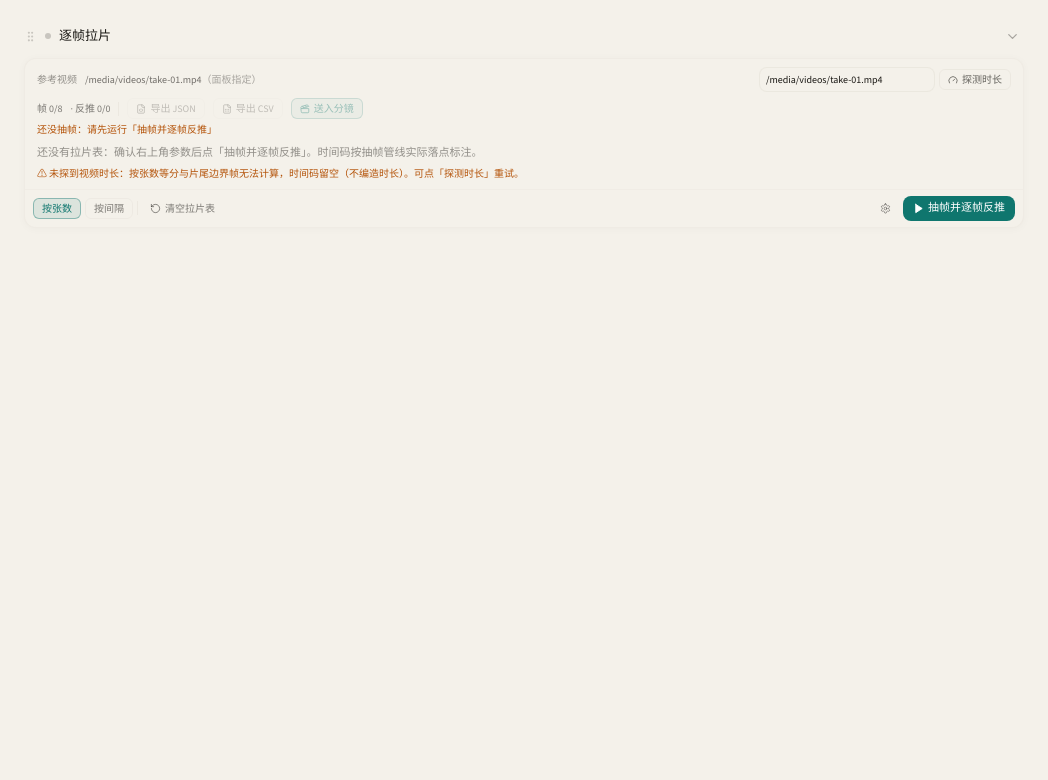
Test case: FrameStudyWorkspace：时长探测 › 探测成功：写入时长与备注，概览显示真实秒数并提示成功
Click the button "探测时长" at [975, 80], box [939,69,1011,90]
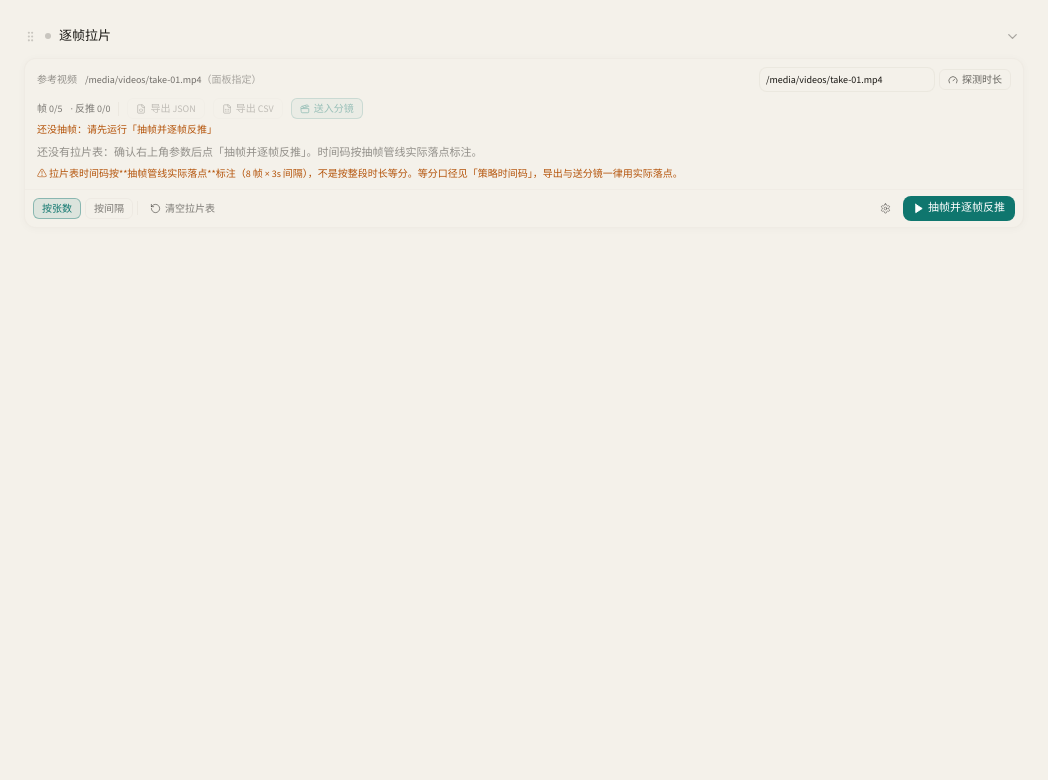
Click the button titled "更多设置" at [886, 208], box [874,201,897,216]
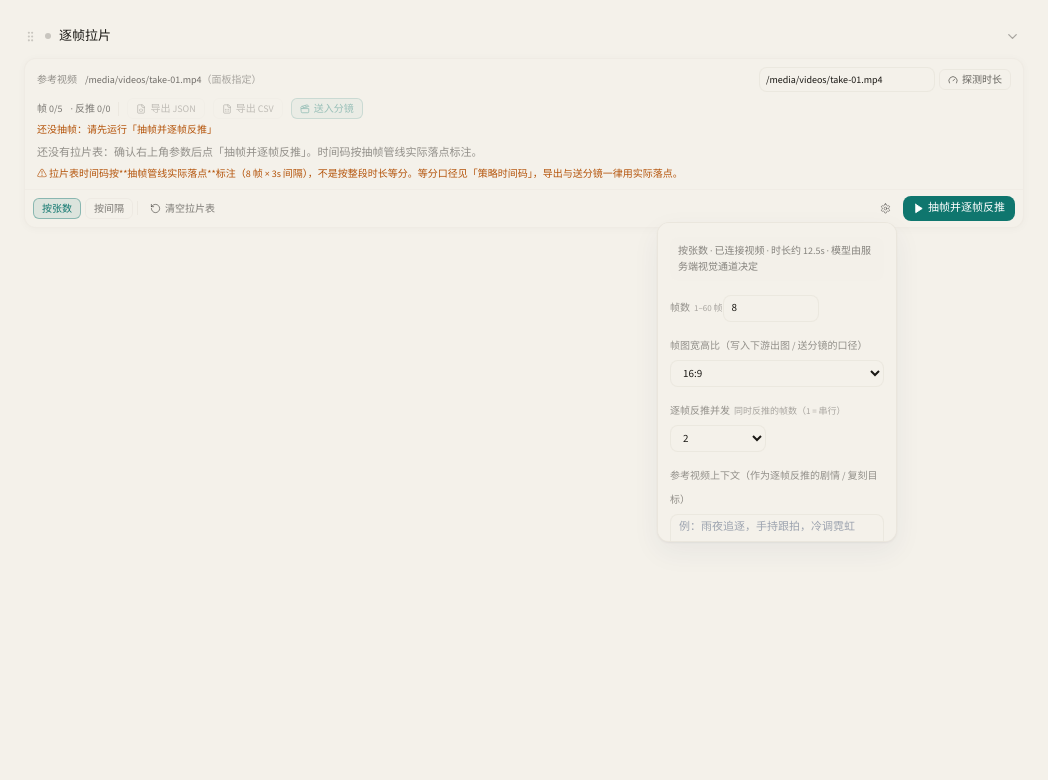
Result: the text "按张数 · 已连接视频 · 时长约 12.5s · 模型由服务端视觉通道决定" is shown at [670,237,884,281]
